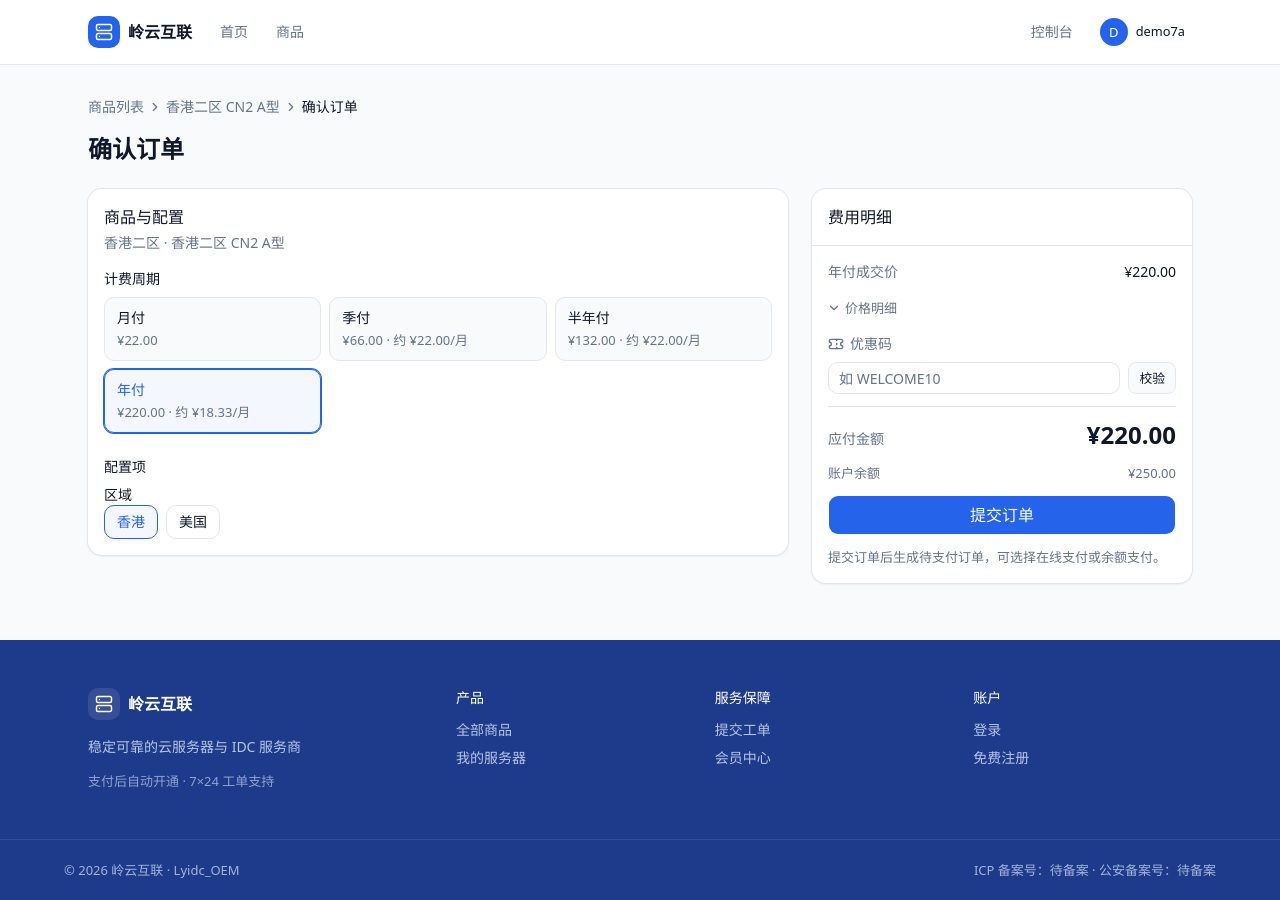
Test case: 结算页 › 渠道支付地址是脚本协议时给出可读提示，且不跳转、不静默失败
Expected: the heading "确认订单" is shown, [88,132,184,165]
Click the button "提交订单".
click(1002, 515)  # box [828,495,1176,535]
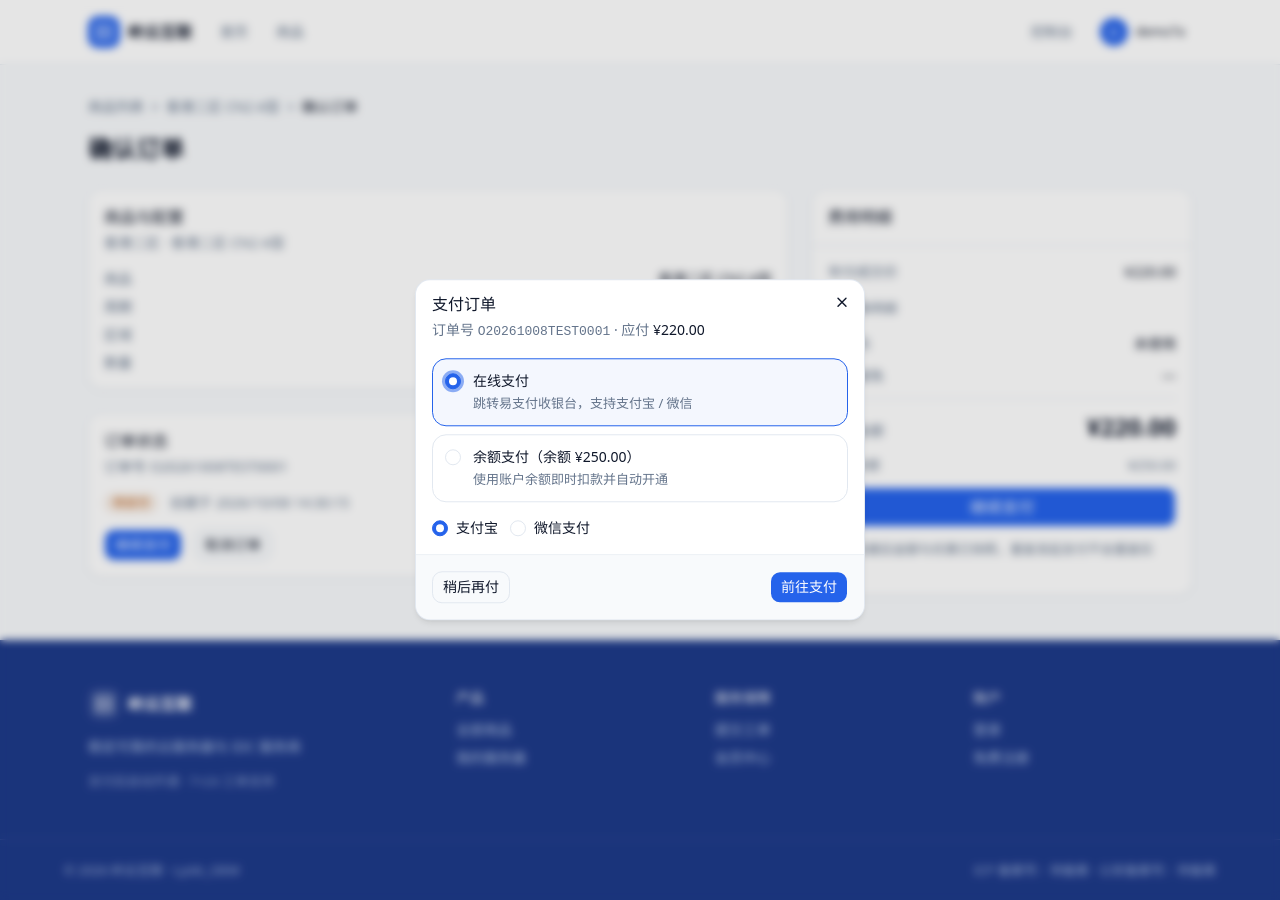
Click the button "前往支付".
click(809, 588)  # box [770,572,848,604]
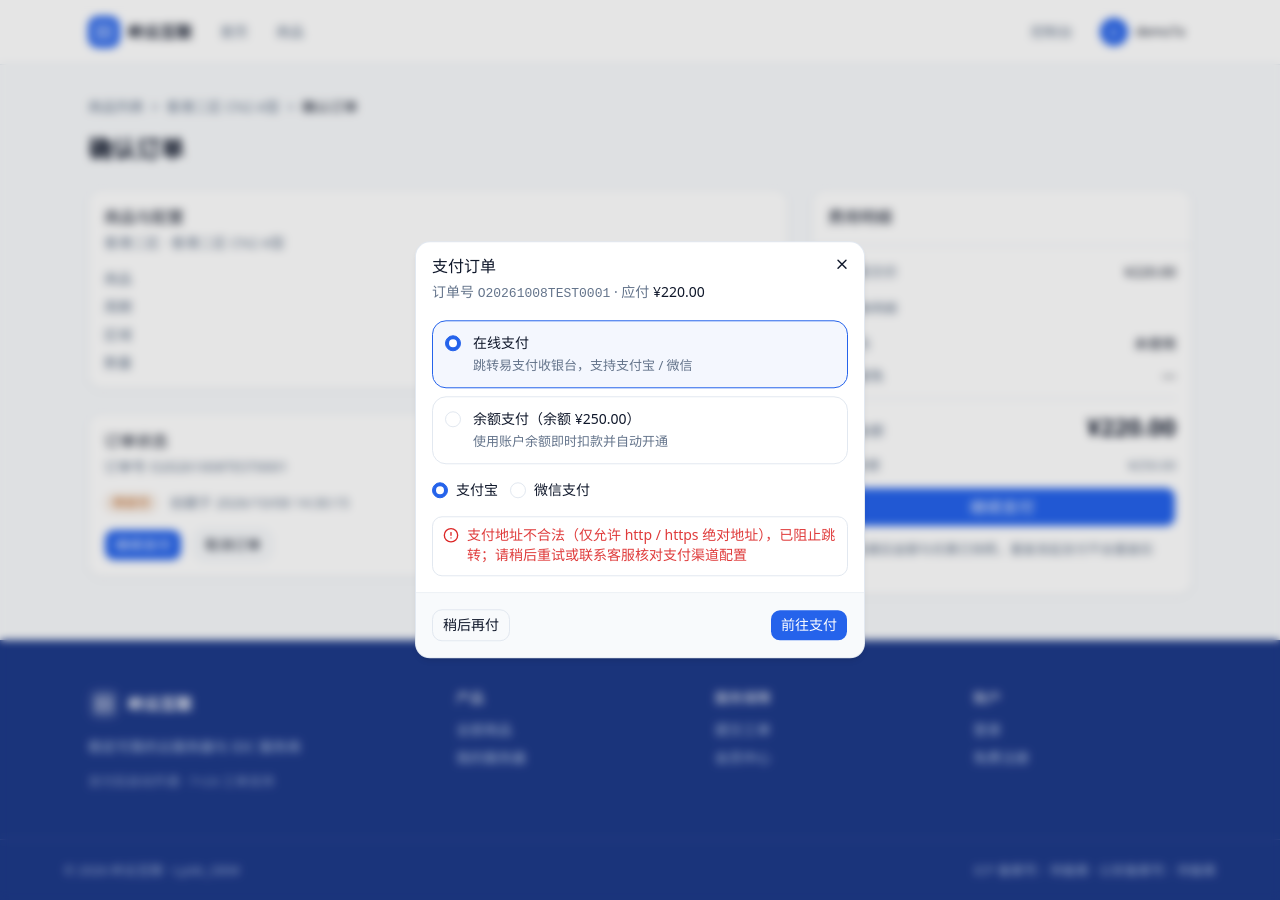
Expected: the button "前往支付" is shown, [770,610,848,642]
Expected: the text "支付地址不合法（仅允许 http / https 绝对地址），已阻止跳转；请稍后重试或联系客服核对支付渠道配置" is shown, [467,526,837,566]
